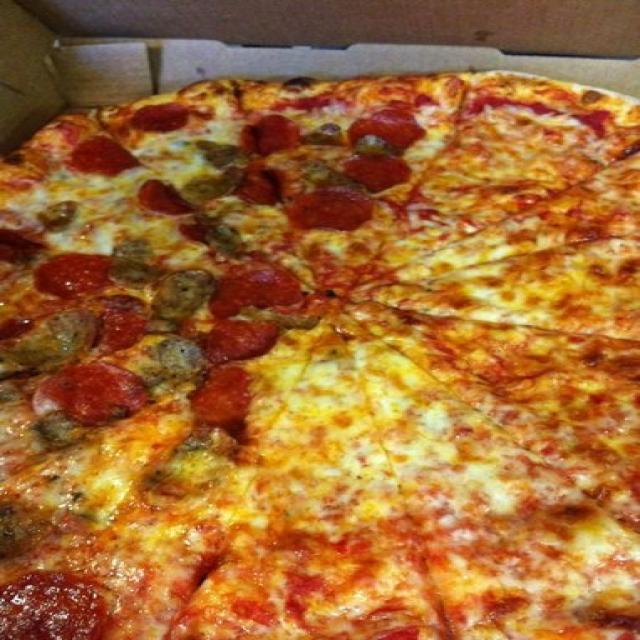Beef: (10, 312, 96, 366), (161, 271, 207, 326), (156, 338, 201, 383), (118, 240, 154, 287), (194, 167, 240, 203), (180, 434, 231, 458), (308, 160, 348, 190), (43, 417, 78, 448), (200, 136, 236, 166), (202, 224, 240, 252), (311, 124, 348, 146), (44, 198, 64, 234)
Pepperoni: (48, 367, 155, 417), (39, 249, 112, 299), (220, 253, 296, 300), (198, 363, 252, 422), (68, 138, 146, 178), (214, 322, 278, 367), (283, 196, 365, 229), (365, 109, 427, 148), (135, 180, 196, 212), (357, 157, 406, 196), (242, 117, 296, 152), (103, 299, 140, 345), (246, 169, 284, 204), (137, 107, 190, 128)
Pizza: (0, 69, 640, 640)
